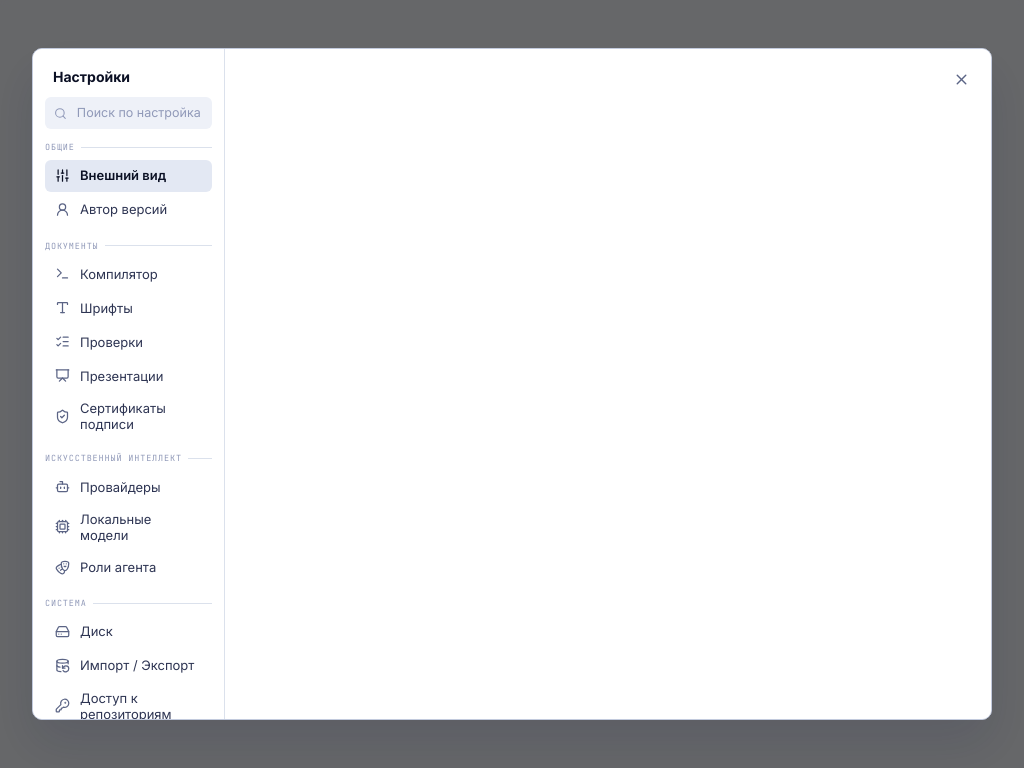
Test: SettingsPage: author profile section › is found by an English keyword while the interface is in Russian
Type "commit" into the field with placeholder "Поиск по настройкам".
click(139, 113); type("commit")  # box [75,103,203,123]
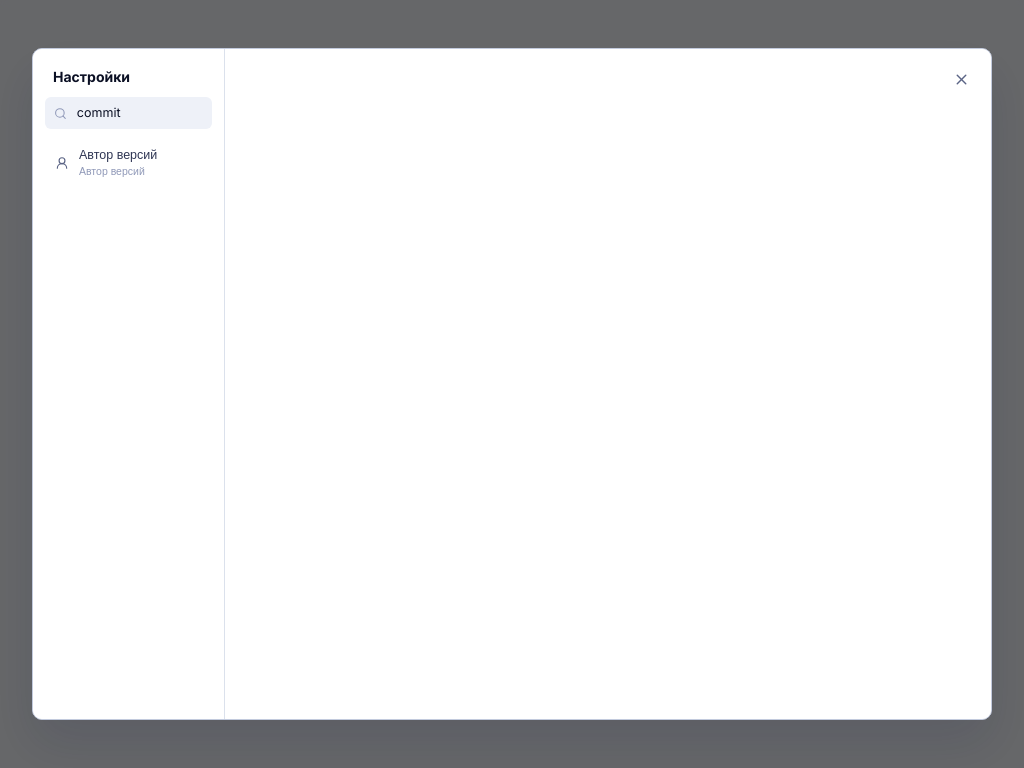
Expected: the button "Автор версий Автор версий" is shown, [45,141,212,184]
